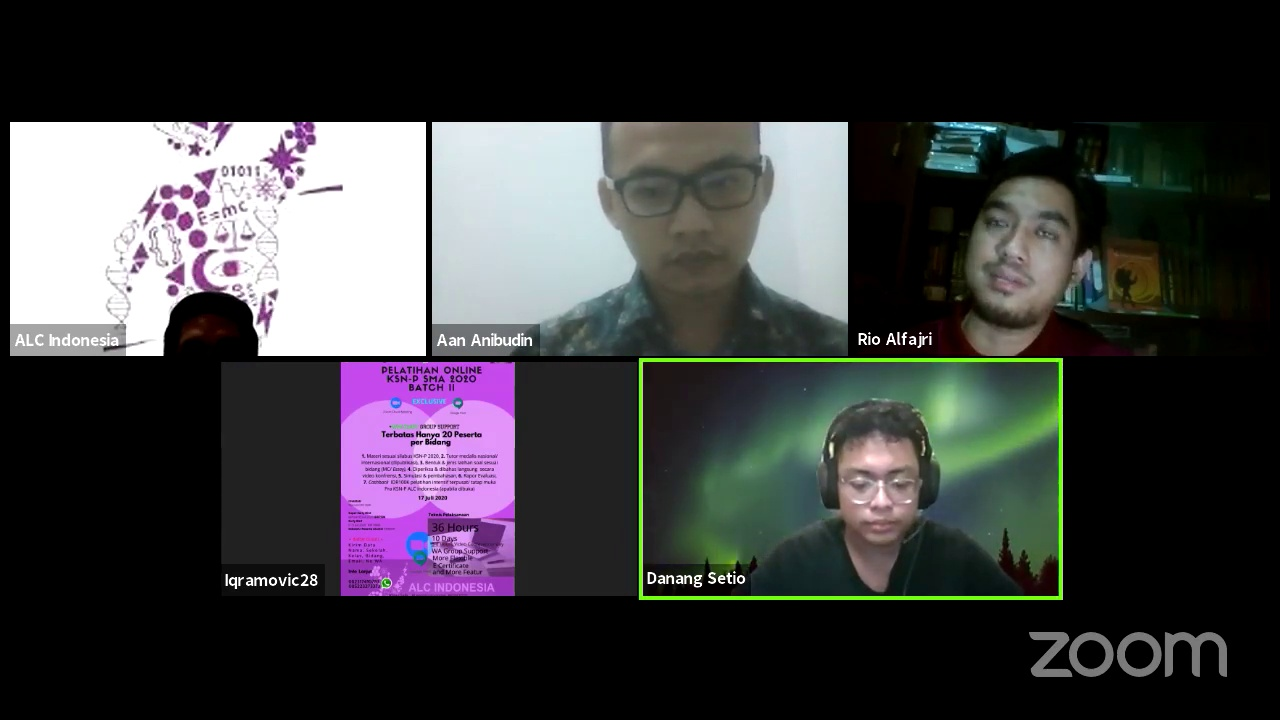Distracted: (794, 406, 948, 555), (966, 166, 1081, 328)
Not Distracted: (584, 142, 798, 288)
